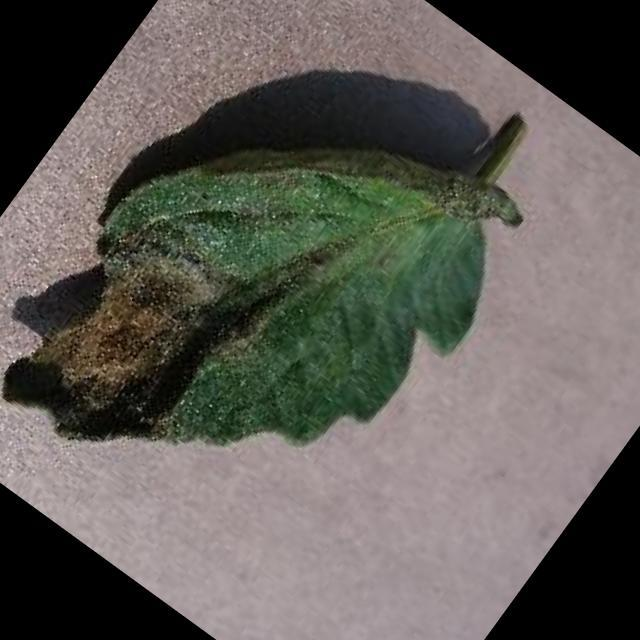Tomato late blight leaf: (0, 7, 552, 605)
